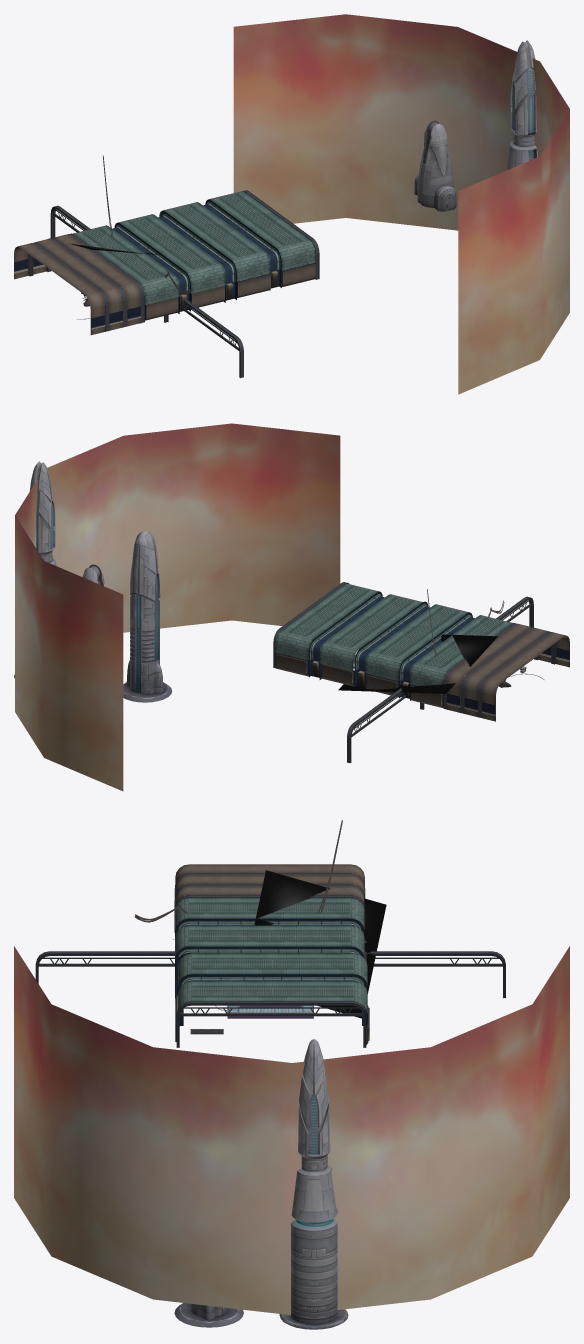
The model's file is env_tar_hangar_01_pre.glb.
3 views of the same model, one above another, from view 1: azimuth 30°, elevation 25°; view 2: azimuth 150°, elevation 25°; view 3: azimuth 270°, elevation 25° (orthographic). The views are drawn at different scales.
Visible parts, largest first — view 1: skybox_half_mesh, tar_wall_05_mesh, tar_wall_05_mesh (2), tar_wall_05_mesh (3), tar_wall_05_mesh (1), tar_building_02_mesh, tar_building_01_mesh, tar_wall_08_mesh (2), tar_wall_08_mesh (1), tar_wall_08_mesh, tar_wall_06_mesh (1), tar_wall_06_mesh (2) (+9 smaller); view 2: skybox_half_mesh, tar_building_03_mesh, tar_wall_05_mesh (2), tar_wall_05_mesh, tar_wall_05_mesh (3), tar_wall_05_mesh (1), tar_wall_08_mesh (2), tar_building_02_mesh, tar_wall_08_mesh (1), vfx_env_fogplane_godray, tar_wall_08_mesh, tar_wall_06_mesh (1) (+8 smaller); view 3: skybox_half_mesh, tar_building_02_mesh, tar_wall_05_mesh, tar_wall_05_mesh (2), tar_wall_05_mesh (3), tar_wall_05_mesh (1), vfx_env_fogplane_godray, tar_pillar_01_mesh (1), tar_wall_08_mesh (2), tar_pillar_01_mesh (3), tar_wall_06_mesh (2), tar_wall_06_mesh (1) (+6 smaller).
Boxes of the visible parts, x1,y1,x2,y2 form: skybox_half_mesh: [233, 14, 569, 394]; tar_wall_05_mesh: [118, 214, 225, 293]; tar_wall_05_mesh (2): [159, 202, 270, 281]; tar_wall_05_mesh (3): [209, 191, 315, 270]; tar_wall_05_mesh (1): [73, 225, 179, 304]; tar_building_02_mesh: [506, 40, 537, 170]; tar_building_01_mesh: [414, 120, 456, 211]; tar_wall_08_mesh (2): [14, 243, 105, 335]; tar_wall_08_mesh (1): [33, 238, 123, 330]; tar_wall_08_mesh: [54, 234, 141, 326]; tar_wall_06_mesh (1): [158, 211, 236, 302]; tar_wall_06_mesh (2): [203, 199, 281, 290]; skybox_half_mesh: [15, 423, 340, 791]; tar_building_03_mesh: [123, 530, 171, 702]; tar_wall_05_mesh (2): [319, 594, 422, 671]; tar_wall_05_mesh: [365, 604, 468, 681]; tar_wall_05_mesh (3): [275, 583, 379, 660]; tar_wall_05_mesh (1): [410, 615, 512, 685]; tar_wall_08_mesh (2): [481, 632, 569, 721]; tar_building_02_mesh: [14, 461, 56, 678]; tar_wall_08_mesh (1): [464, 628, 551, 717]; vfx_env_fogplane_godray: [338, 634, 497, 693]; tar_wall_08_mesh: [447, 623, 530, 712]; tar_wall_06_mesh (1): [354, 601, 430, 688]; skybox_half_mesh: [14, 946, 569, 1315]; tar_building_02_mesh: [279, 1039, 348, 1329]; tar_wall_05_mesh: [175, 925, 364, 958]; tar_wall_05_mesh (2): [178, 953, 367, 986]; tar_wall_05_mesh (3): [178, 981, 367, 1013]; tar_wall_05_mesh (1): [175, 897, 364, 930]; vfx_env_fogplane_godray: [254, 870, 386, 1018]; tar_pillar_01_mesh (1): [176, 1001, 366, 1047]; tar_wall_08_mesh (2): [174, 864, 365, 908]; tar_pillar_01_mesh (3): [35, 951, 174, 983]; tar_wall_06_mesh (2): [178, 974, 367, 1025]; tar_wall_06_mesh (1): [175, 946, 364, 997].
Bounding box in the file's own units: 171 × 79.92 × 129.
Materials: 15 (15 with a texture image).
